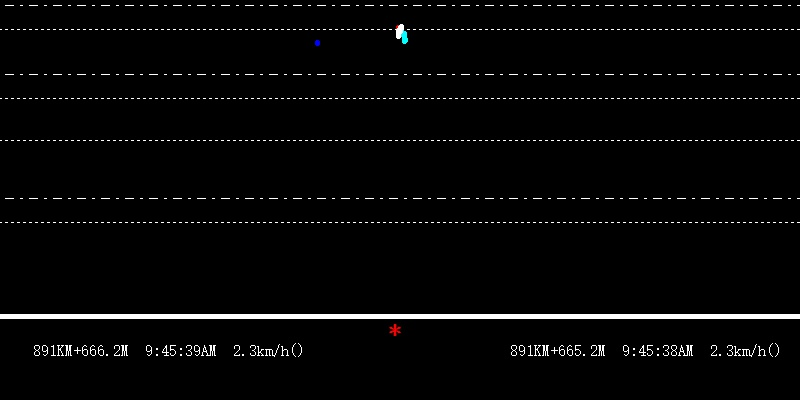face_2: (394, 23, 408, 46)
face_down: (313, 27, 321, 52)
star: (386, 322, 401, 338)
